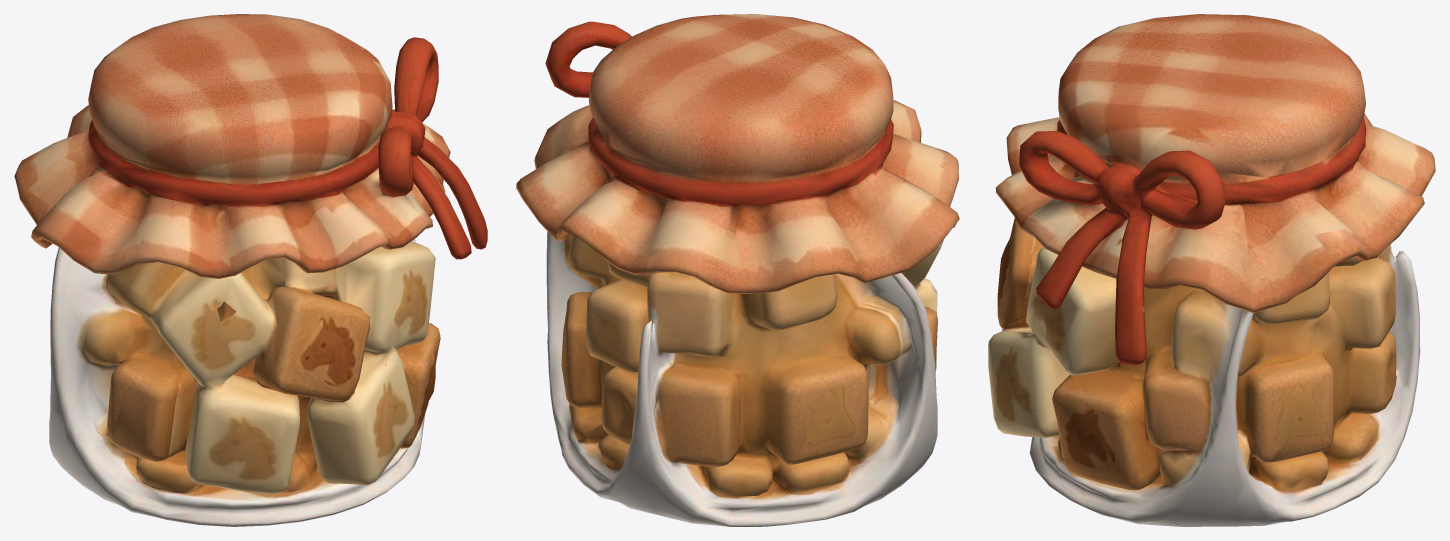
The picture shows the model from 3 angles, left to right: view 1: azimuth 30°, elevation 25°; view 2: azimuth 150°, elevation 25°; view 3: azimuth 270°, elevation 25°; orthographic projection.
Visible parts, largest first — view 1: sugar-jar; view 2: sugar-jar; view 3: sugar-jar.
Boxes of the visible parts, x1,y1,x2,y2 form: sugar-jar: [14, 14, 487, 526]; sugar-jar: [516, 14, 959, 526]; sugar-jar: [988, 14, 1435, 526].
Size of the model in its own units: 0.2787 by 0.2499 by 0.2568.
1 material, 1 textured.
